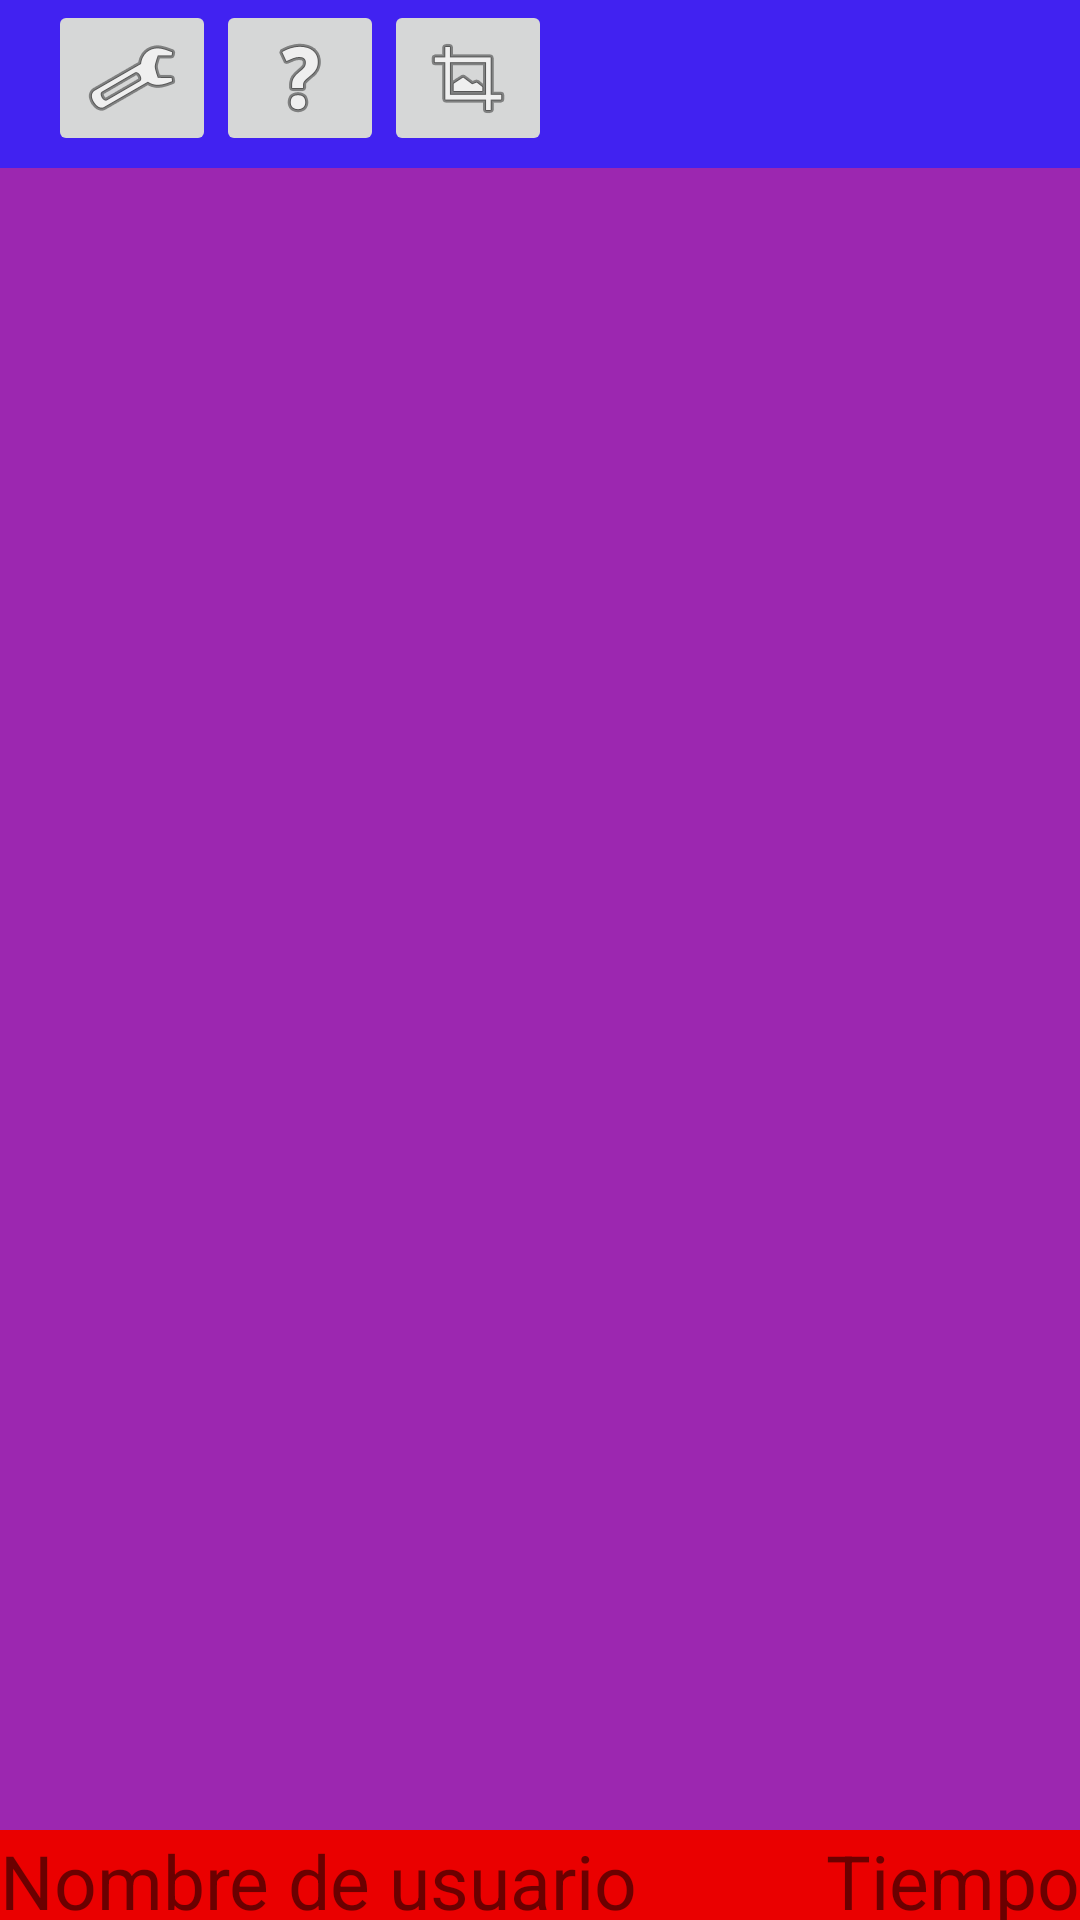

Screen size 1080px×1920px. Icon name, then its box in pixels as (x1, y1, x2, y2):
crop: (396, 18, 540, 138)
help: (228, 18, 372, 138)
manage: (60, 18, 204, 138)
